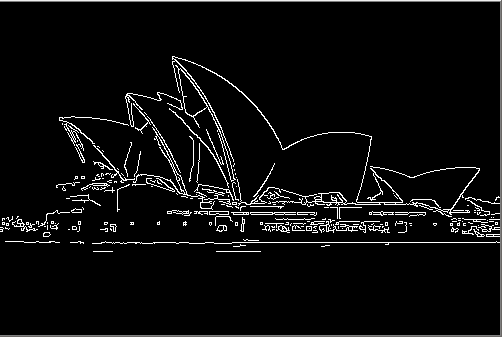opera house: (40, 51, 488, 224)
